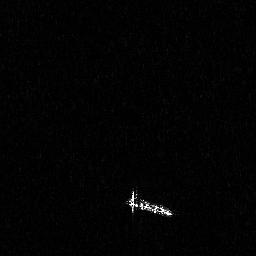ship: (121, 185, 179, 220)
